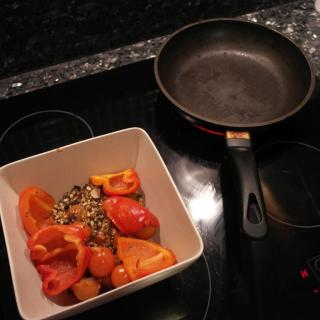tomato: (100, 194, 159, 243), (116, 237, 179, 280), (90, 166, 140, 195), (84, 252, 114, 288), (71, 276, 103, 300), (71, 222, 91, 245), (110, 265, 130, 286)
